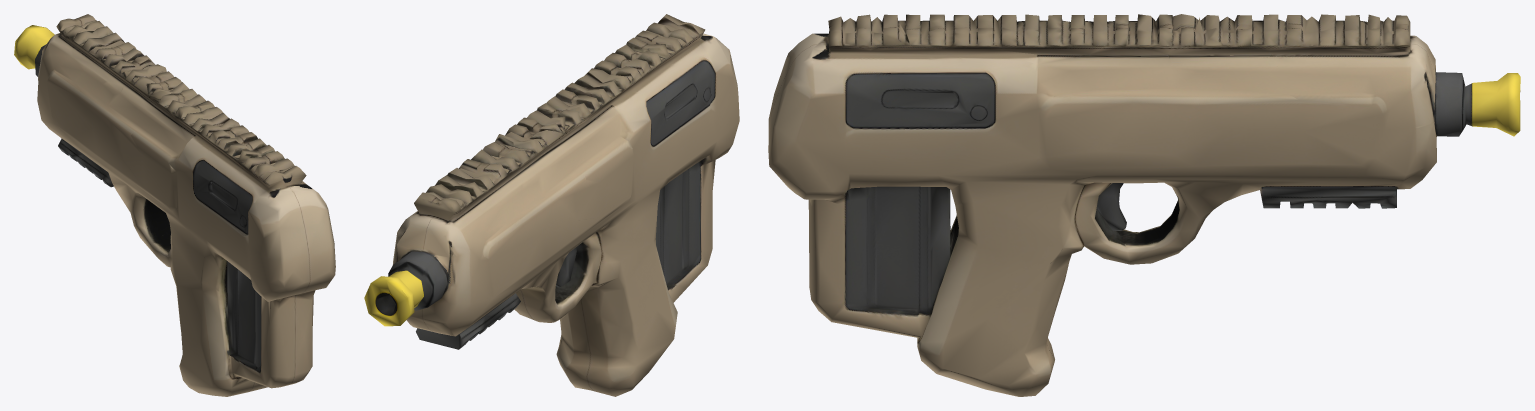
File: bullpup_tripo_raw.glb
The picture shows the model from 3 angles, left to right: view 1: azimuth 30°, elevation 25°; view 2: azimuth 150°, elevation 25°; view 3: azimuth 270°, elevation 25°; orthographic projection. The views are drawn at different scales.
Parts seen in each view (by area): view 1: tripo_node_75750132-0926-4965-8528-328aaf6e7829; view 2: tripo_node_75750132-0926-4965-8528-328aaf6e7829; view 3: tripo_node_75750132-0926-4965-8528-328aaf6e7829.
Part boxes in pixels (left/top/right/bottom): tripo_node_75750132-0926-4965-8528-328aaf6e7829: left=14, top=14, right=335, bottom=396; tripo_node_75750132-0926-4965-8528-328aaf6e7829: left=364, top=14, right=739, bottom=396; tripo_node_75750132-0926-4965-8528-328aaf6e7829: left=768, top=14, right=1520, bottom=396.
Bounding box in the file's own units: 0.1533 × 0.5325 × 1.
1 material, 1 textured.
